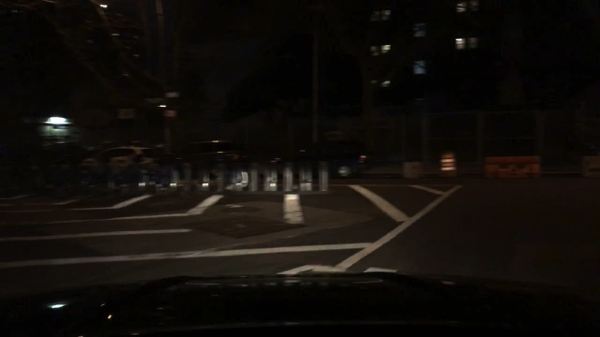car: (267, 139, 373, 177), (163, 141, 247, 178), (80, 146, 166, 182), (1, 140, 78, 173)
traffic sign: (118, 110, 135, 120), (164, 110, 178, 119), (162, 92, 178, 98)
